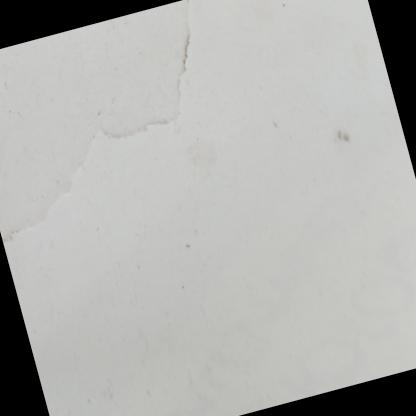Crack: (0, 0, 257, 291), (256, 0, 377, 62), (317, 103, 366, 170)
